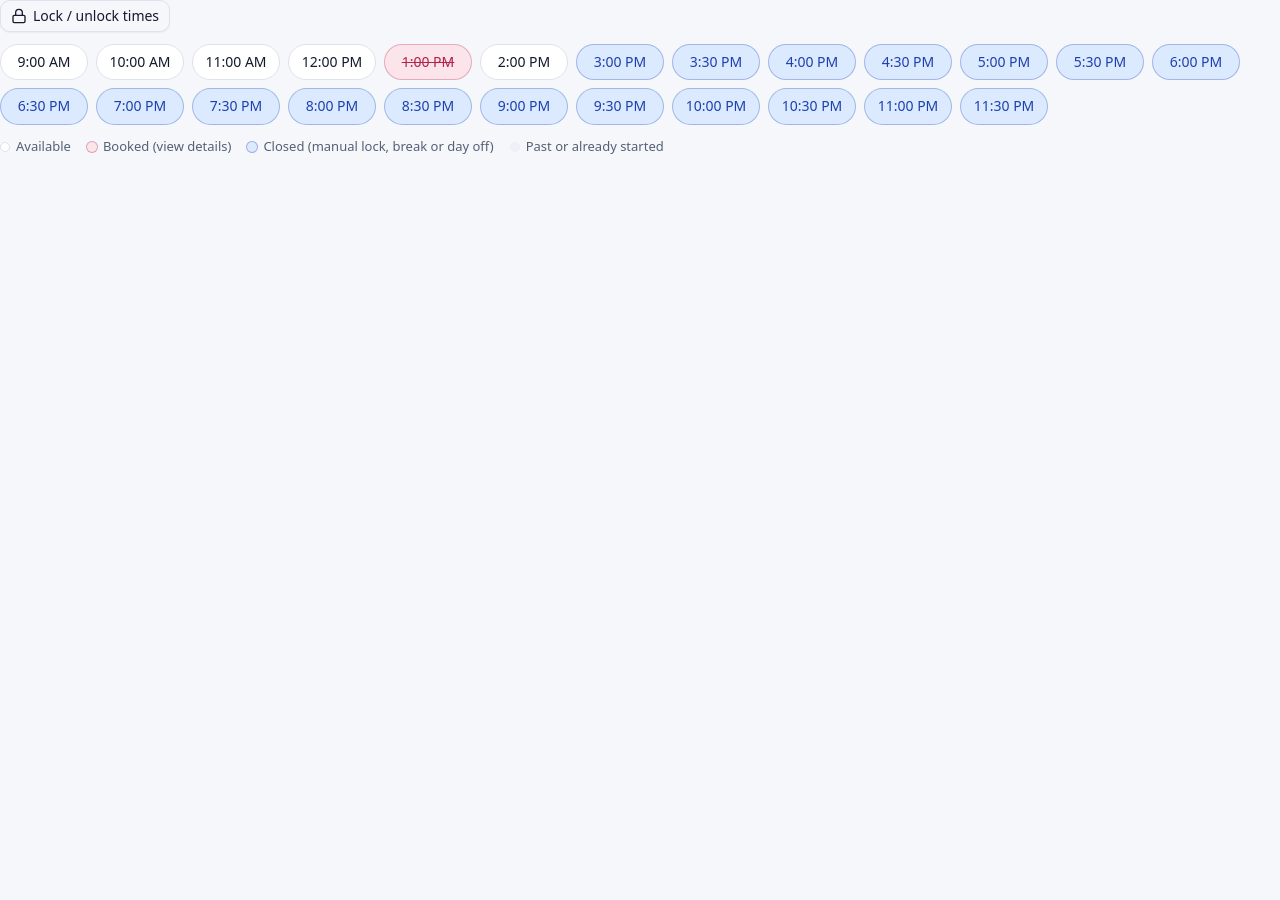
booked hour bubble › toggles the bubble on click
Step 1. Click the radio button with aria-label "1:00 PM, booked" → point(428, 62), box [384,44,472,80]
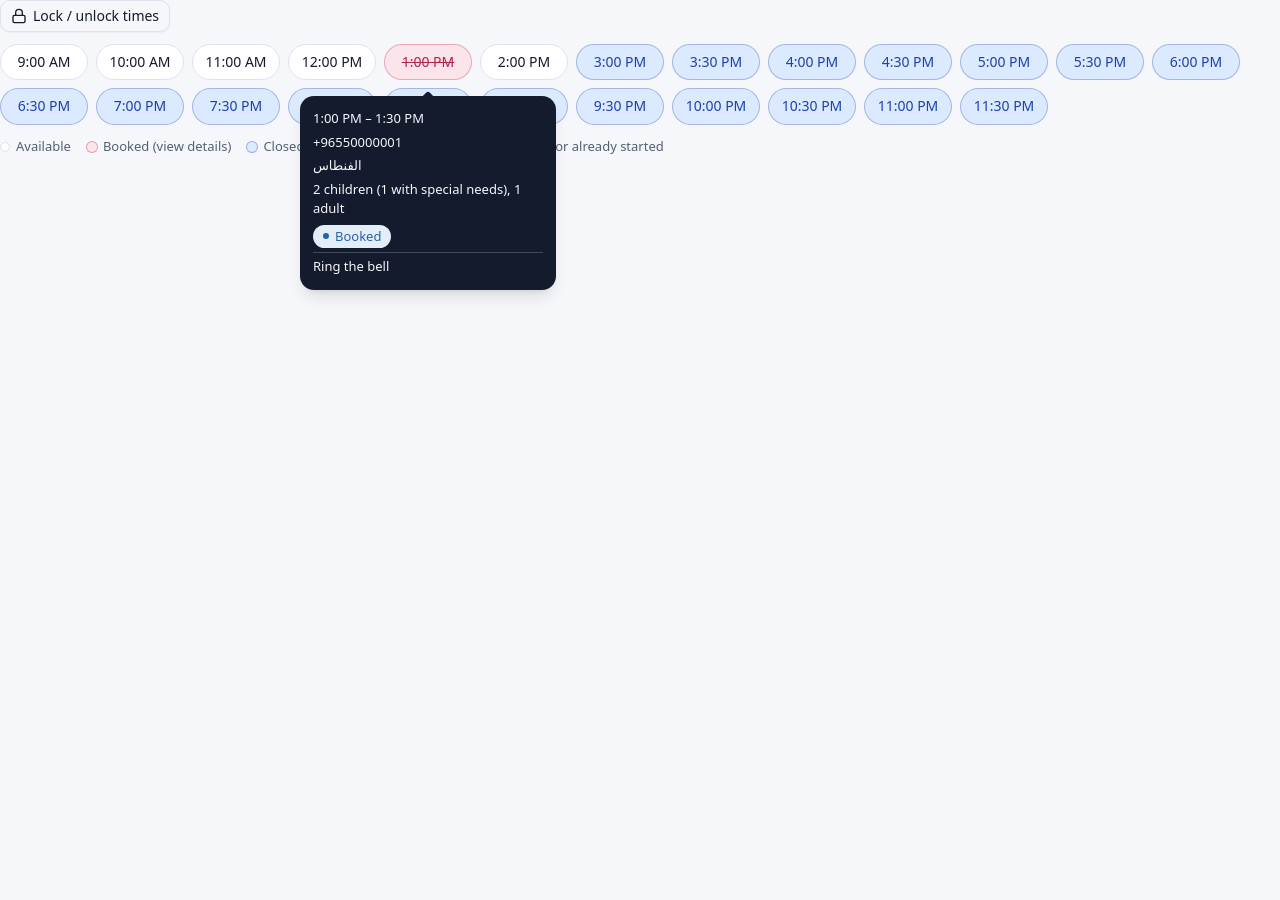
Expected: the text "+96550000001" is shown, [313,132,402,150]
Step 2. Click the radio button with aria-label "1:00 PM, booked" → point(428, 62), box [384,44,472,80]
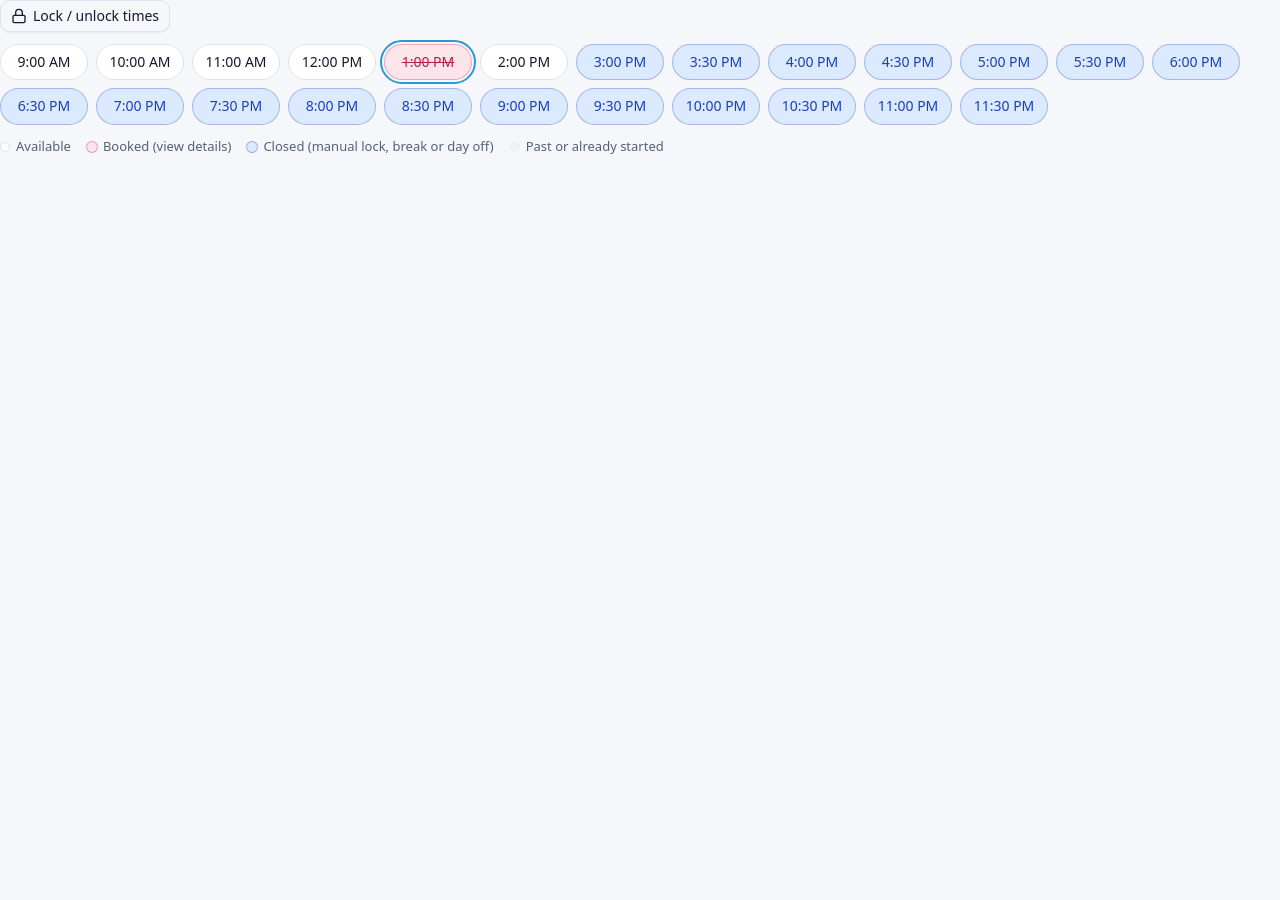
Expected: the text "+96550000001" is gone
